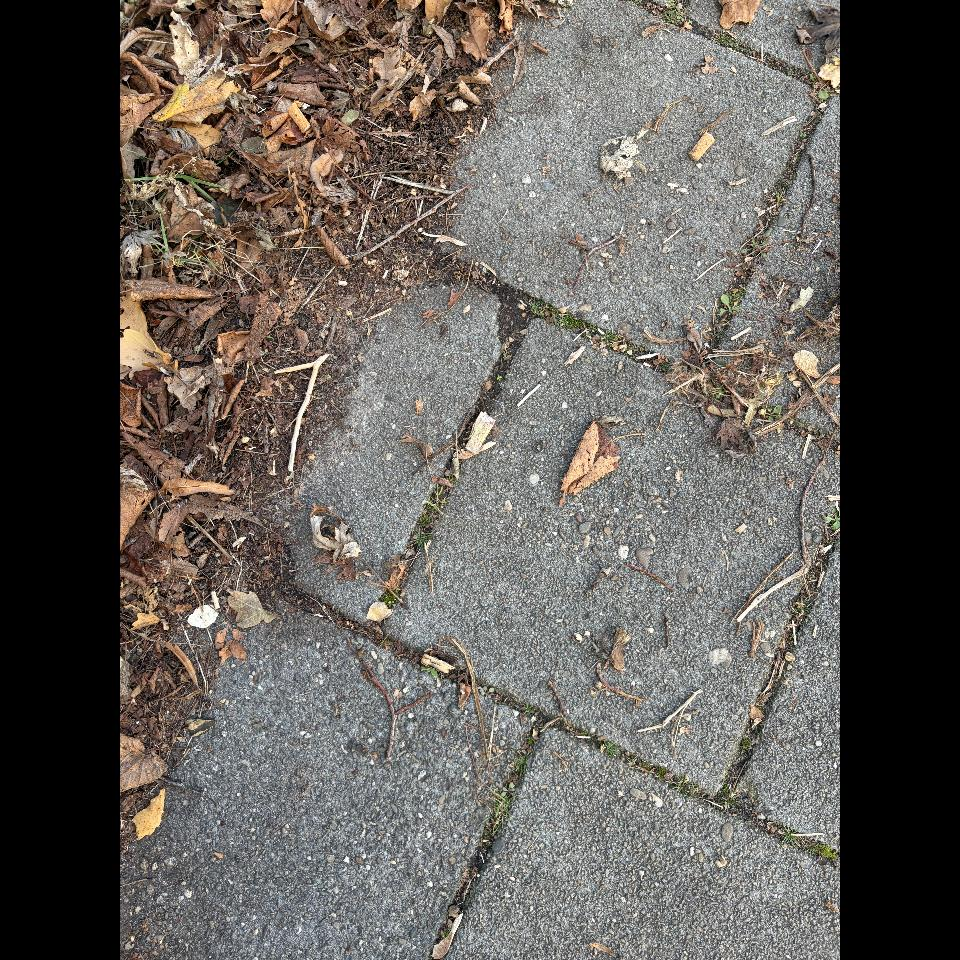weed: (477, 731, 540, 870), (553, 312, 586, 332), (809, 843, 836, 861), (456, 881, 471, 899)
